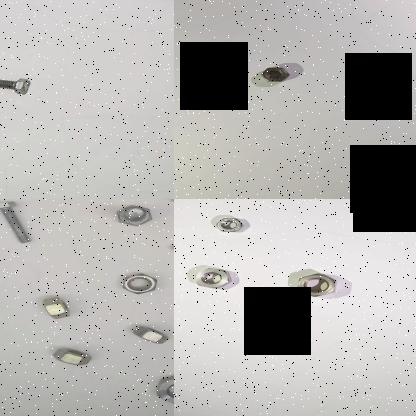Bolts: (0, 199, 39, 246), (112, 202, 162, 228), (0, 72, 37, 95)
NUTS: (46, 343, 101, 371), (36, 292, 80, 326), (121, 322, 174, 348), (292, 272, 341, 300), (112, 270, 162, 296), (192, 266, 234, 291), (151, 367, 174, 405), (257, 64, 293, 84), (214, 216, 245, 233)
